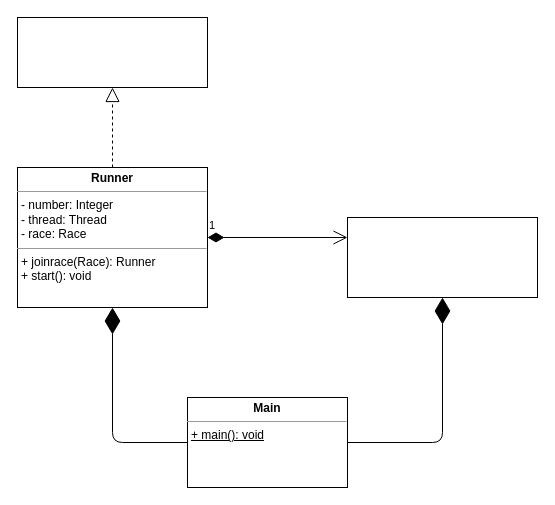
This 555x505 diagram has some shape labels left out. The centre of each missing label's shape, as x and y in pixels:
<<Interface>> Runnable + run(): void: the point at 112,52
Race + start(): void + result(): void: the point at 442,257
